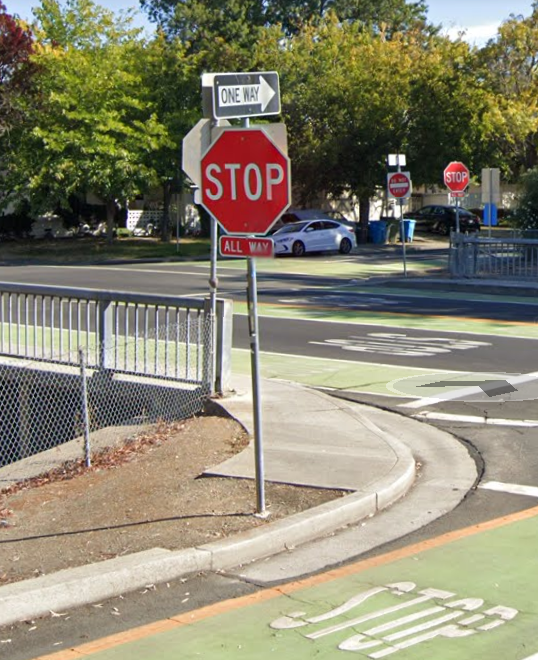stop_sign: (199, 129, 292, 233), (445, 162, 470, 191)
